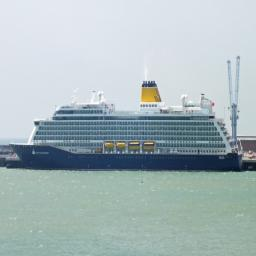cruises: (8, 80, 246, 176)
